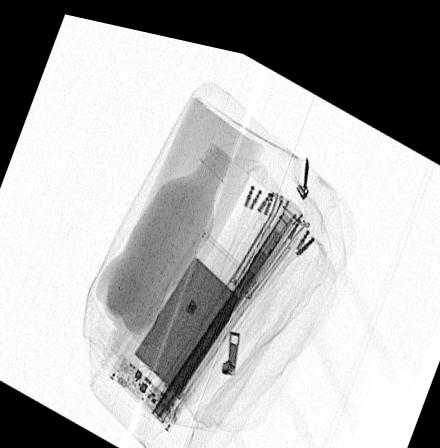Powerbank: (106, 222, 263, 427)
